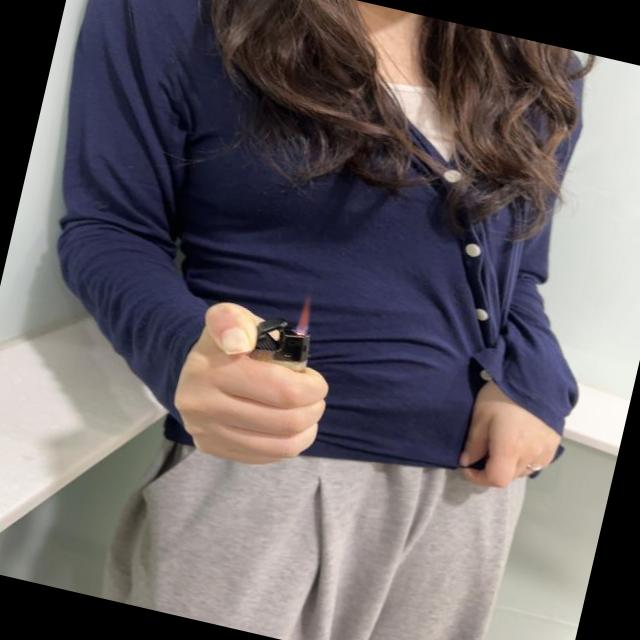Fire: (294, 304, 314, 339)
